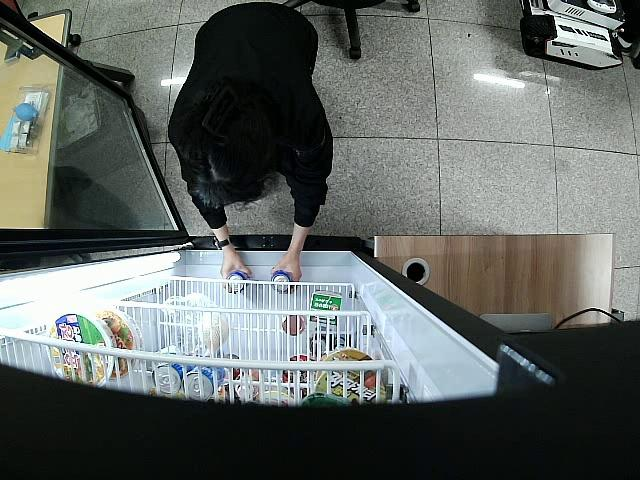00_hand: (269, 254, 301, 294), (220, 256, 252, 293)
13_pocariSweat: (227, 269, 249, 293), (270, 272, 292, 293)
